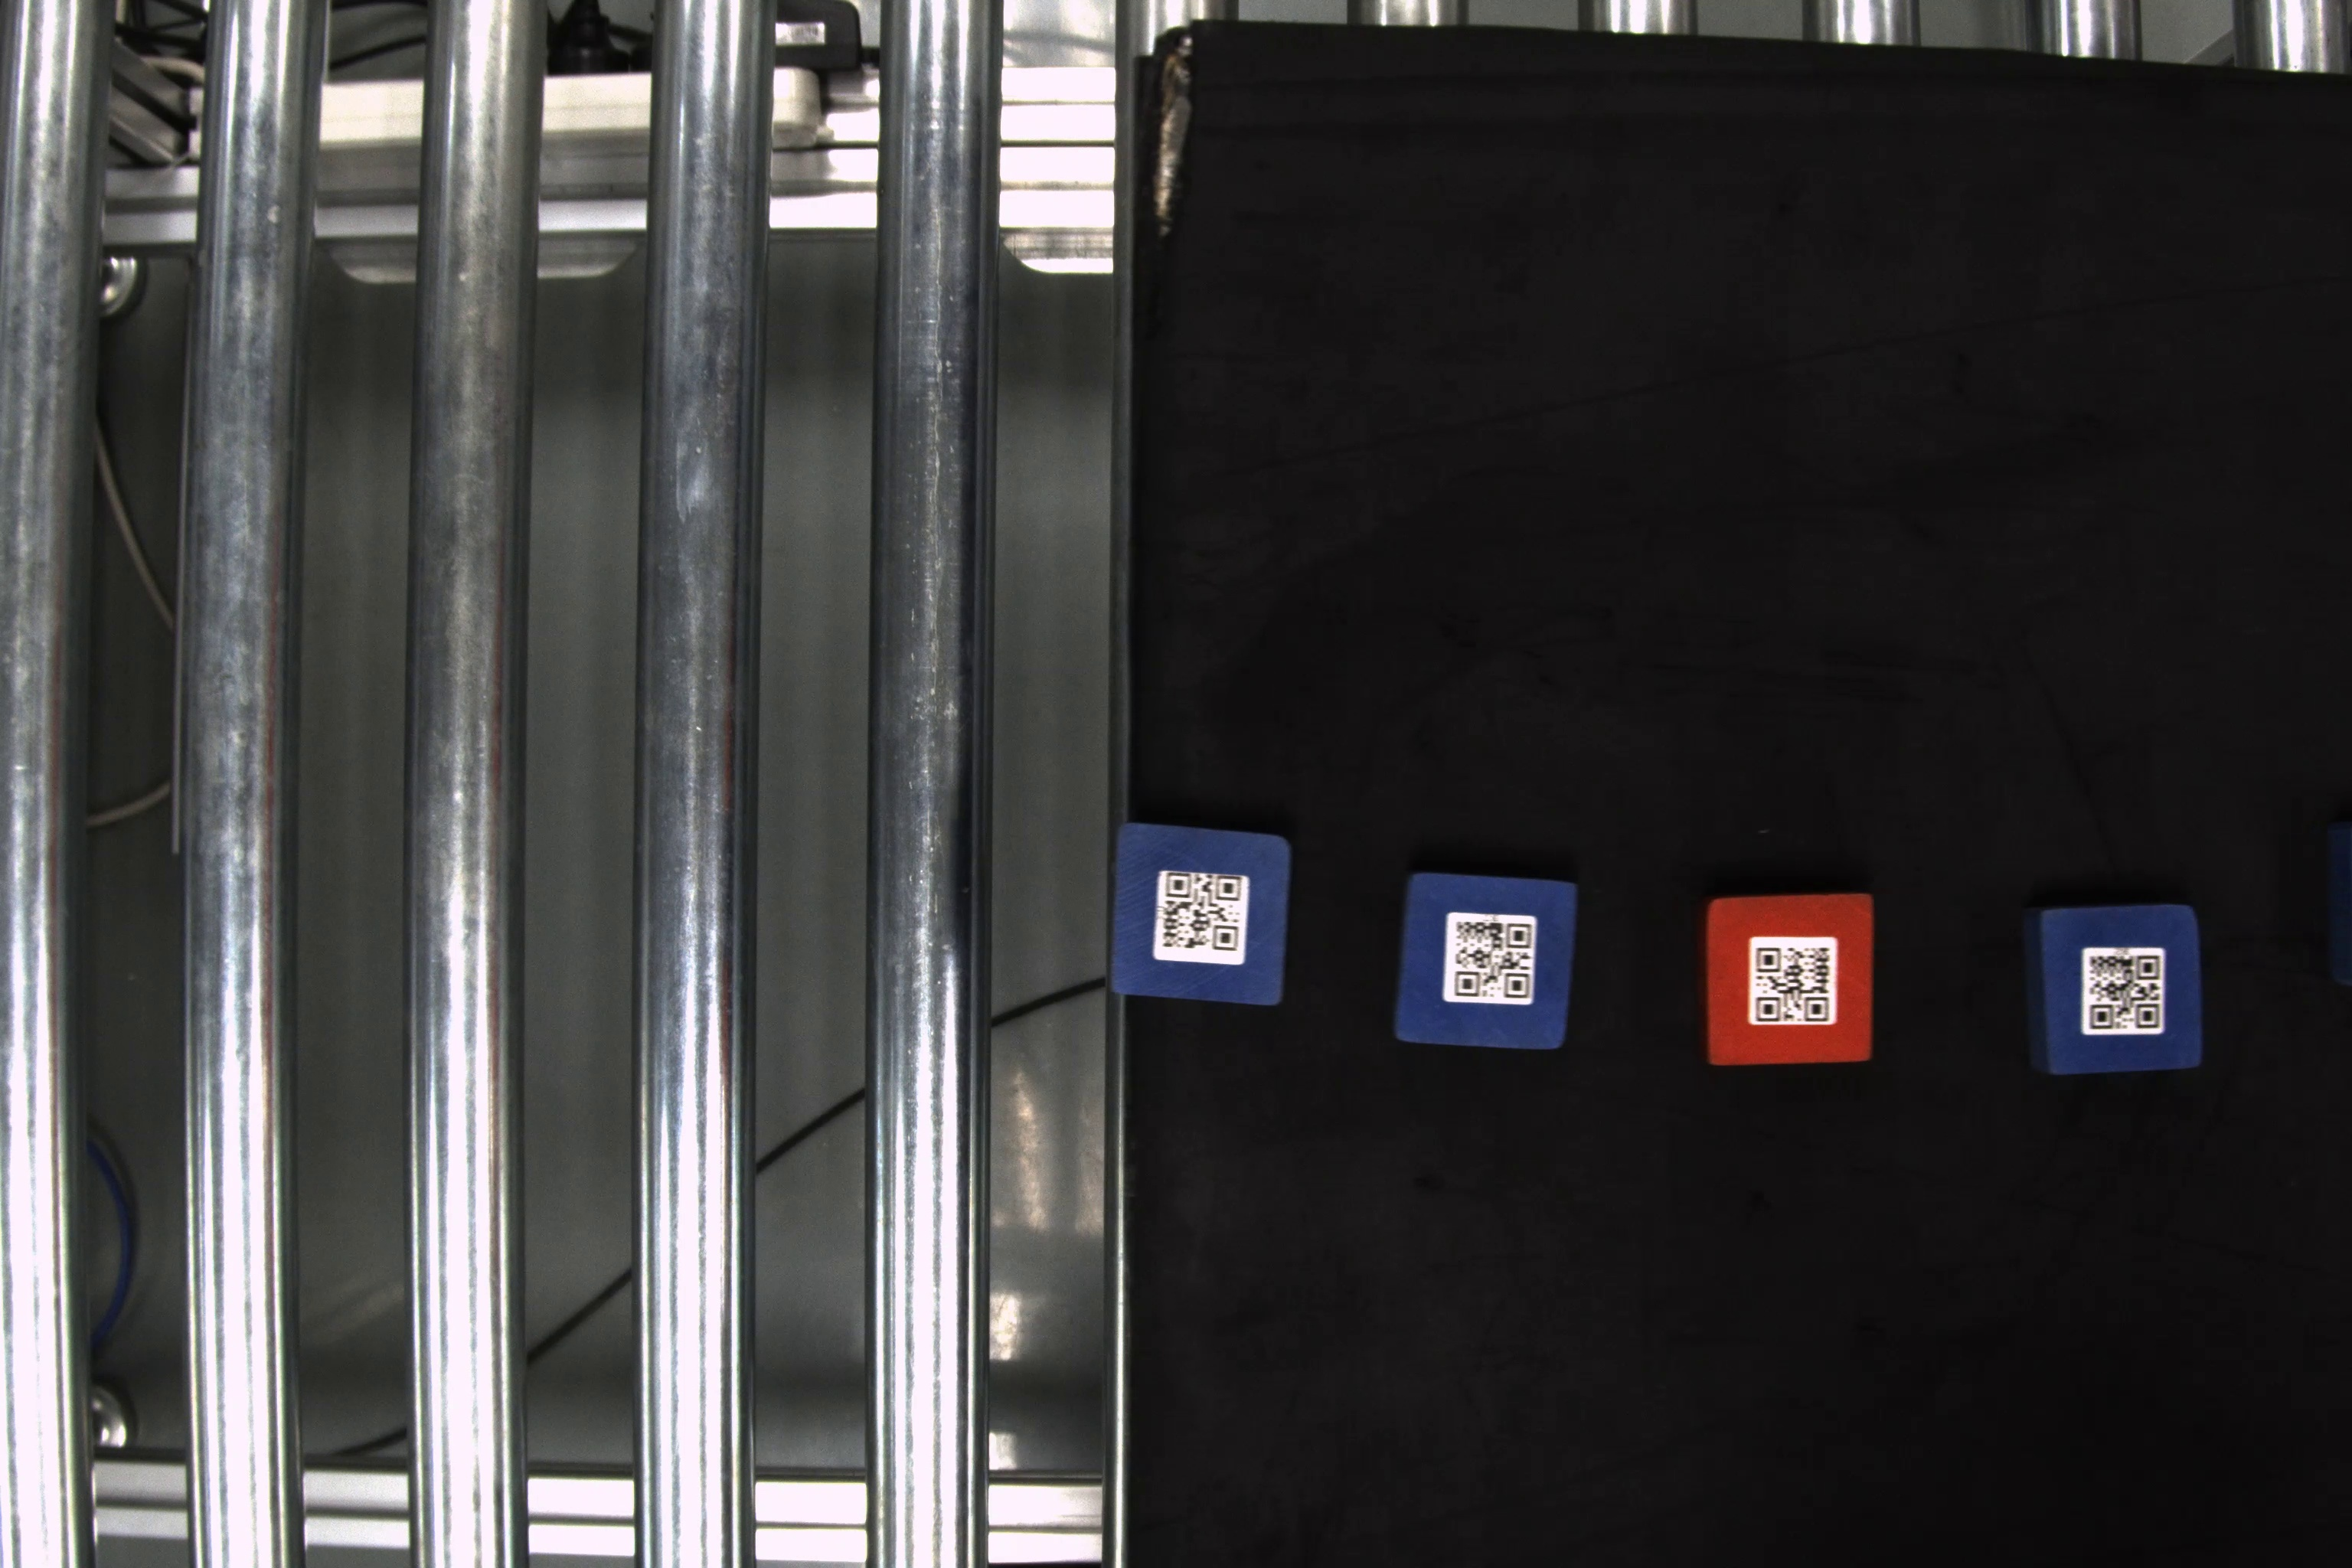wood: (1402, 864, 1580, 1059), (1111, 821, 1293, 1008), (2023, 906, 2212, 1078), (1701, 889, 1881, 1062)
